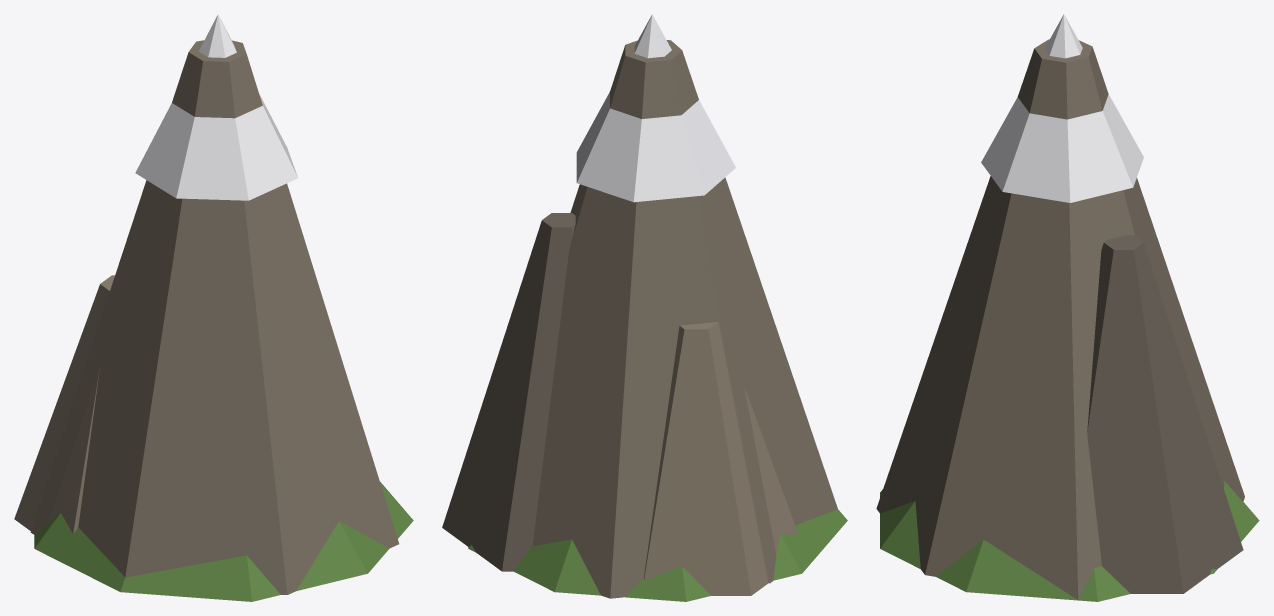
File: gora.glb
3 renders of one model, left to right at view 1: azimuth 30°, elevation 25°; view 2: azimuth 150°, elevation 25°; view 3: azimuth 270°, elevation 25°, orthographic.
Parts seen in each view (by area): view 1: gora; view 2: gora; view 3: gora.
Boxes of the visible parts, box(x1,y1,x2,y2) form: gora: box(14, 14, 413, 601); gora: box(442, 14, 847, 601); gora: box(876, 14, 1259, 601).
Size of the model in its own units: 1.93 by 2.8 by 1.92.
